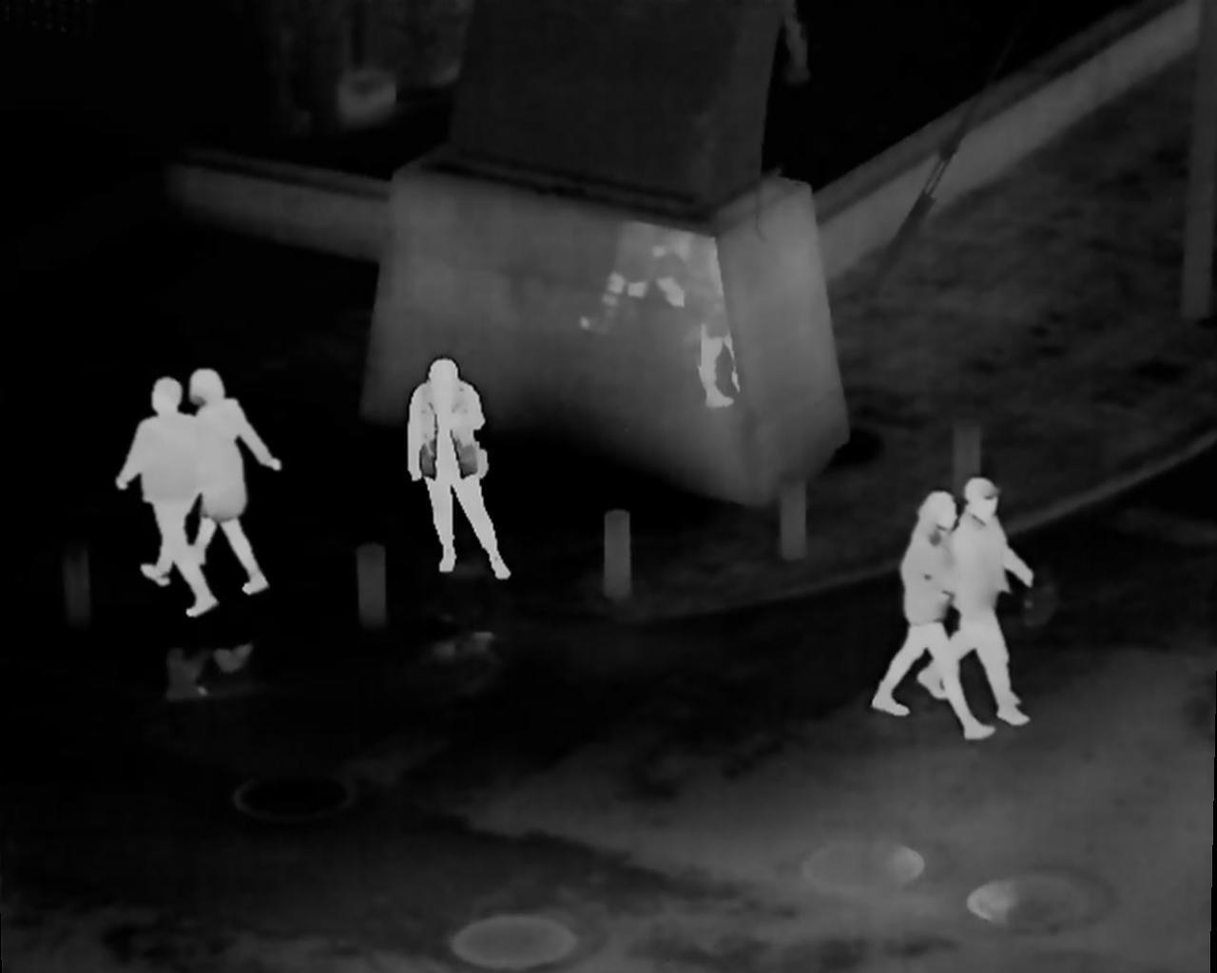person: (406, 361, 512, 578), (876, 493, 964, 746), (184, 370, 275, 602), (945, 479, 1031, 722), (128, 376, 214, 613)
